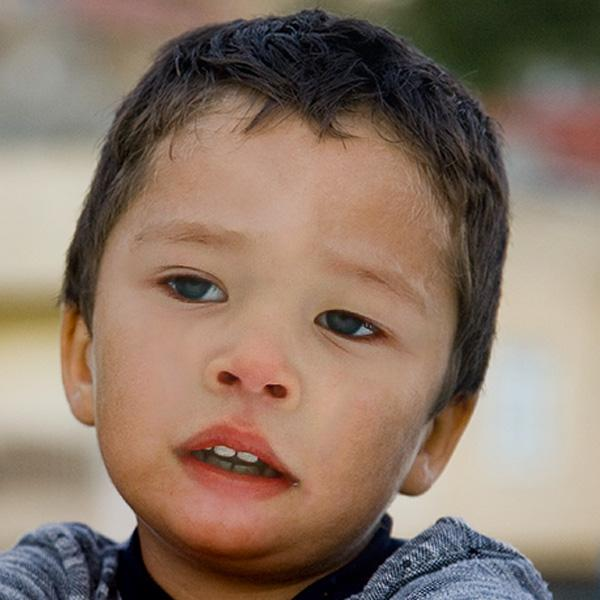Eyes: (301, 289, 395, 359), (140, 253, 235, 318)
